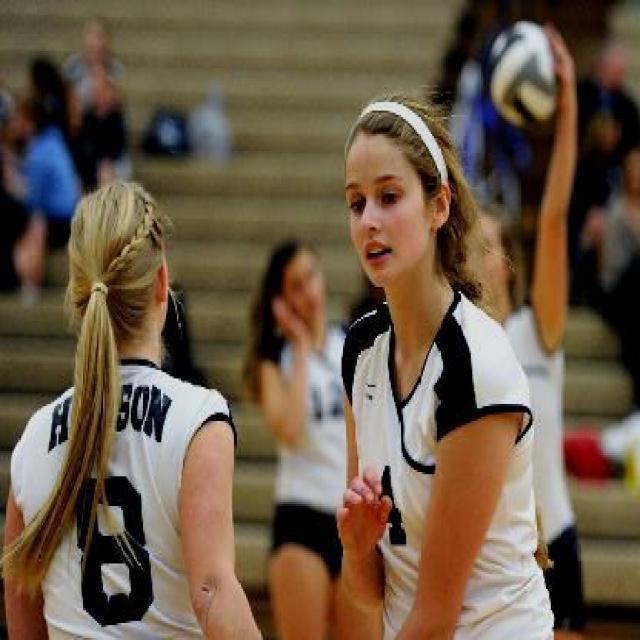volleyball: (486, 22, 559, 128)
